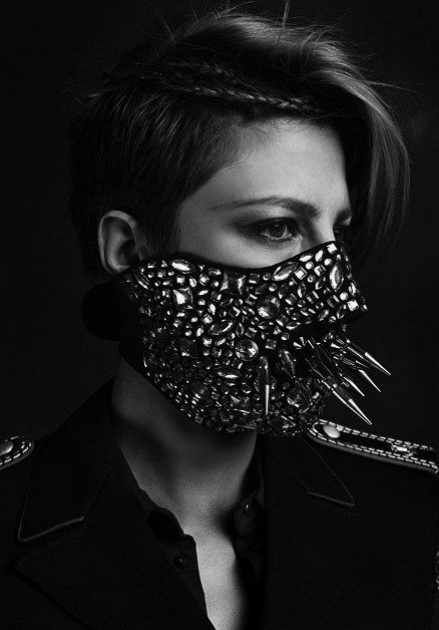face_with_mask: (90, 57, 396, 456)
